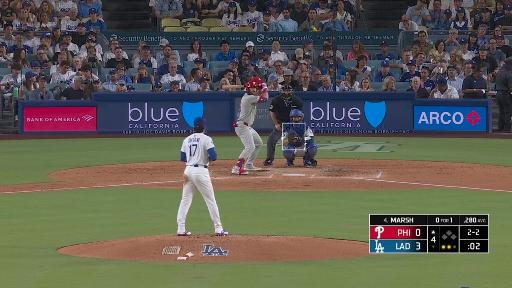pitcher: (177, 117, 228, 235)
